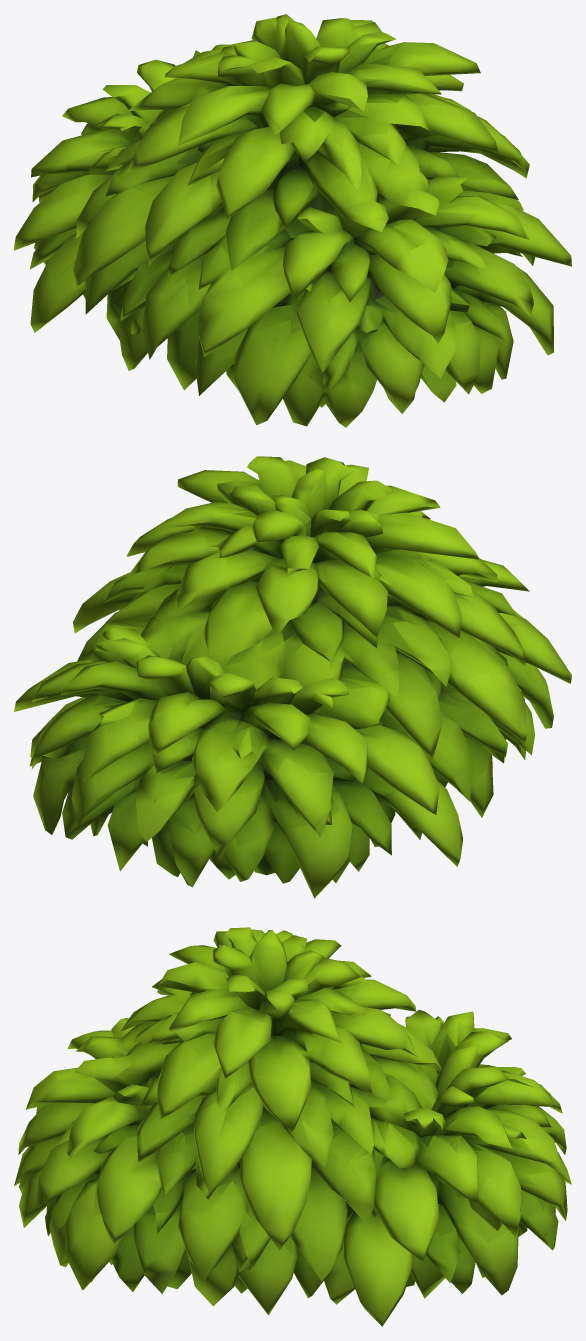
Rendered from hedge_bush.glb.
The picture shows the model from 3 angles, top to bottom: view 1: azimuth 30°, elevation 25°; view 2: azimuth 150°, elevation 25°; view 3: azimuth 270°, elevation 25°; orthographic projection. The views are drawn at different scales.
Visible parts, largest first — view 1: tripo_node_04af0f5d-fb7b-4c23-882b-d443a59440e5; view 2: tripo_node_04af0f5d-fb7b-4c23-882b-d443a59440e5; view 3: tripo_node_04af0f5d-fb7b-4c23-882b-d443a59440e5.
Part boxes in pixels (x1=…): tripo_node_04af0f5d-fb7b-4c23-882b-d443a59440e5: x1=14, y1=14, x2=571, y2=427; tripo_node_04af0f5d-fb7b-4c23-882b-d443a59440e5: x1=14, y1=456, x2=571, y2=898; tripo_node_04af0f5d-fb7b-4c23-882b-d443a59440e5: x1=14, y1=927, x2=571, y2=1326.
Size of the model in its own units: 0.8125 by 0.5521 by 0.9167.
Materials: 1 (1 with a texture image).
